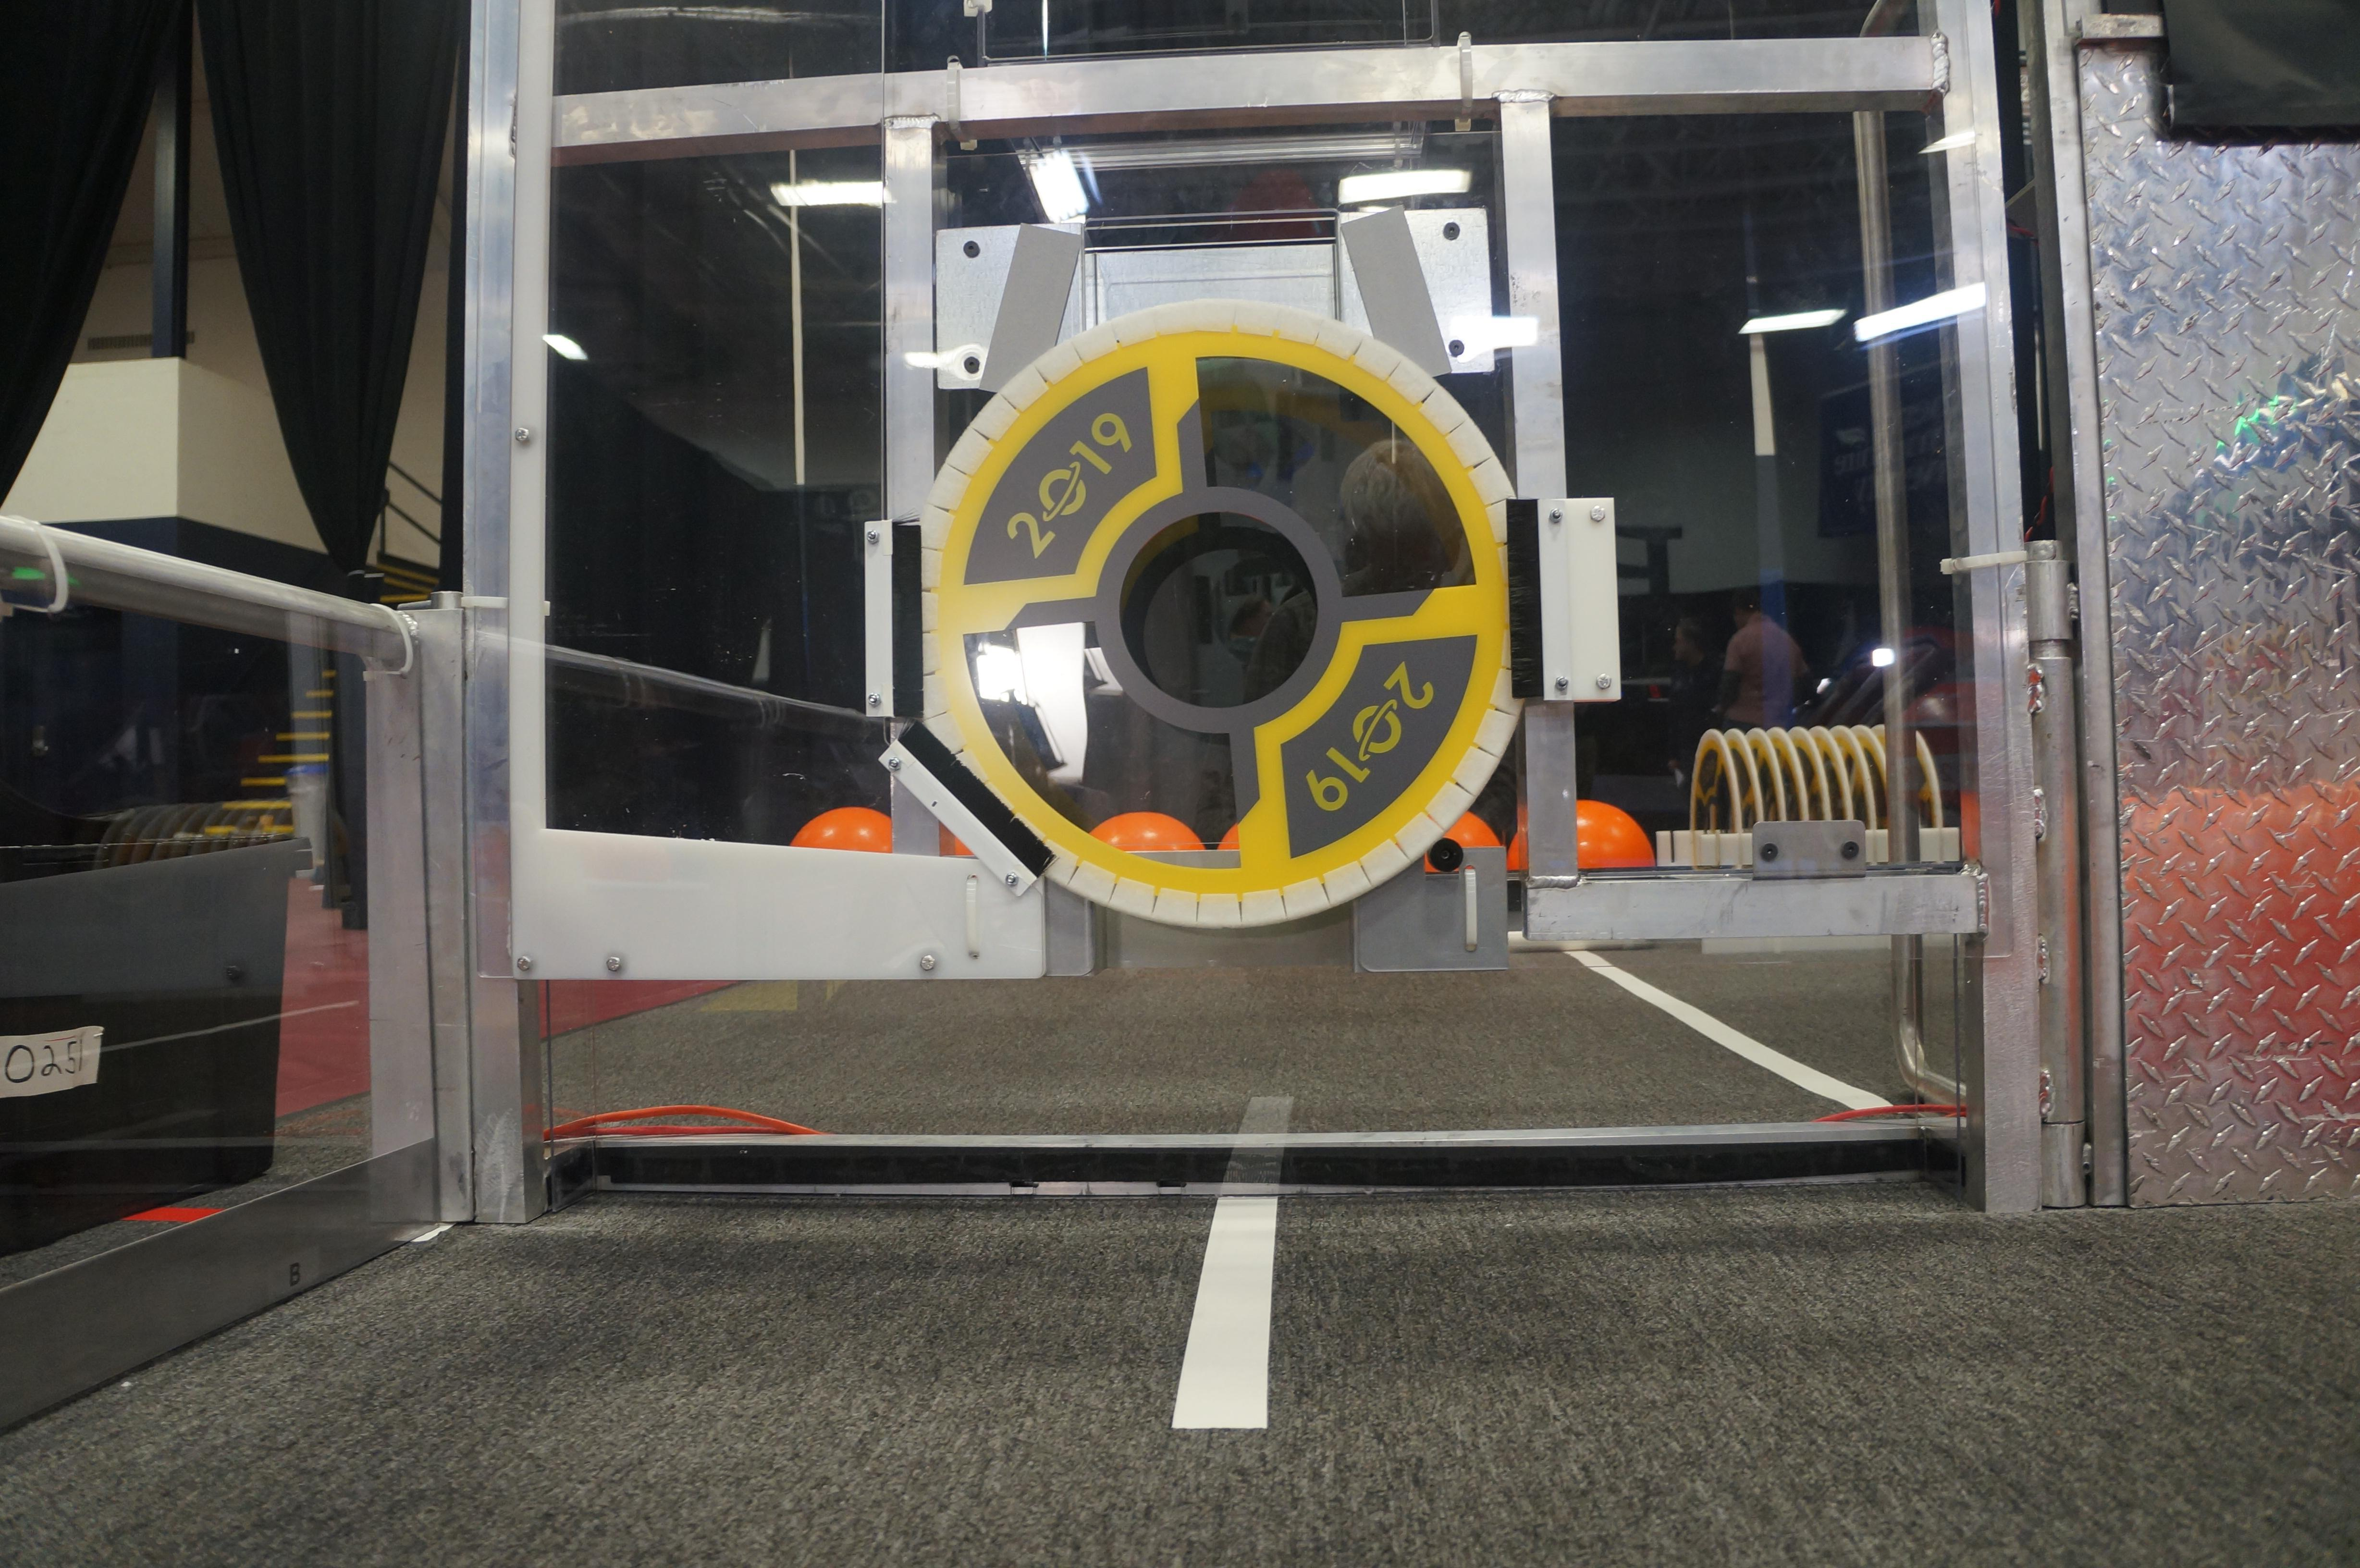Ball: (1510, 794, 1658, 887), (789, 798, 901, 856)
Hatch: (897, 290, 1534, 929), (1688, 733, 1744, 879)
Tape: (1335, 203, 1456, 385), (974, 219, 1086, 395)
